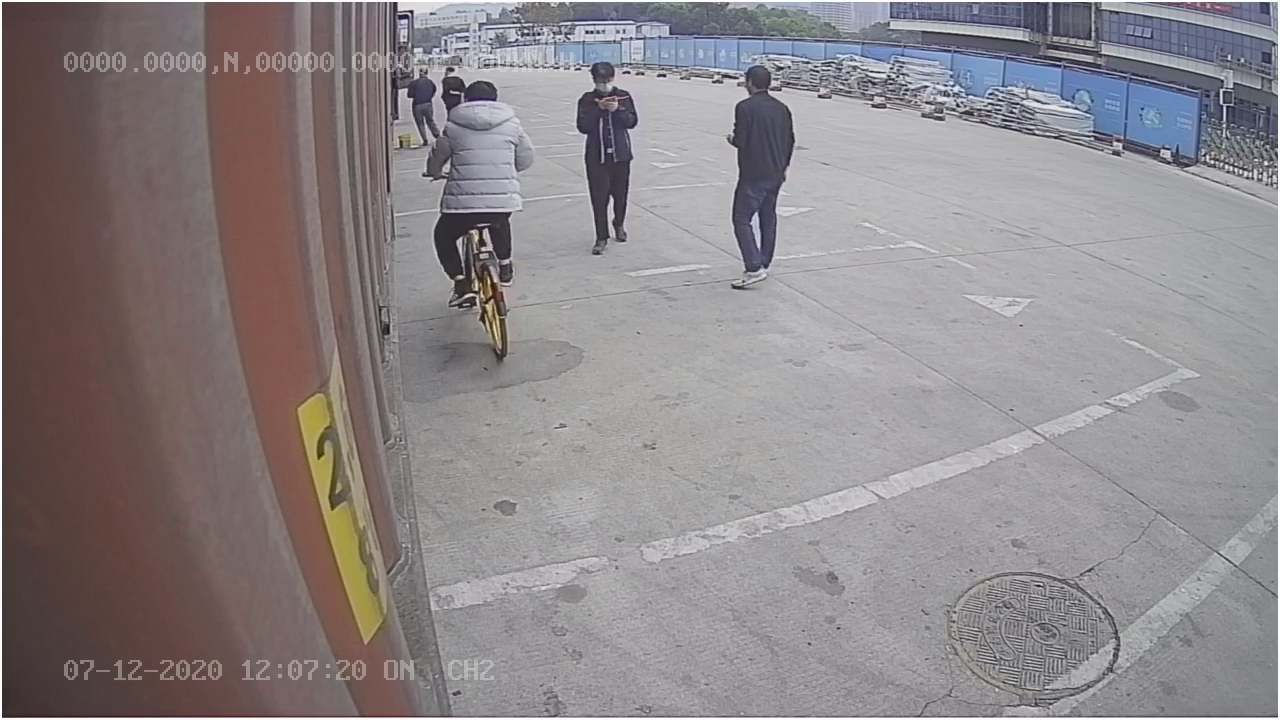person: (723, 64, 794, 288)
